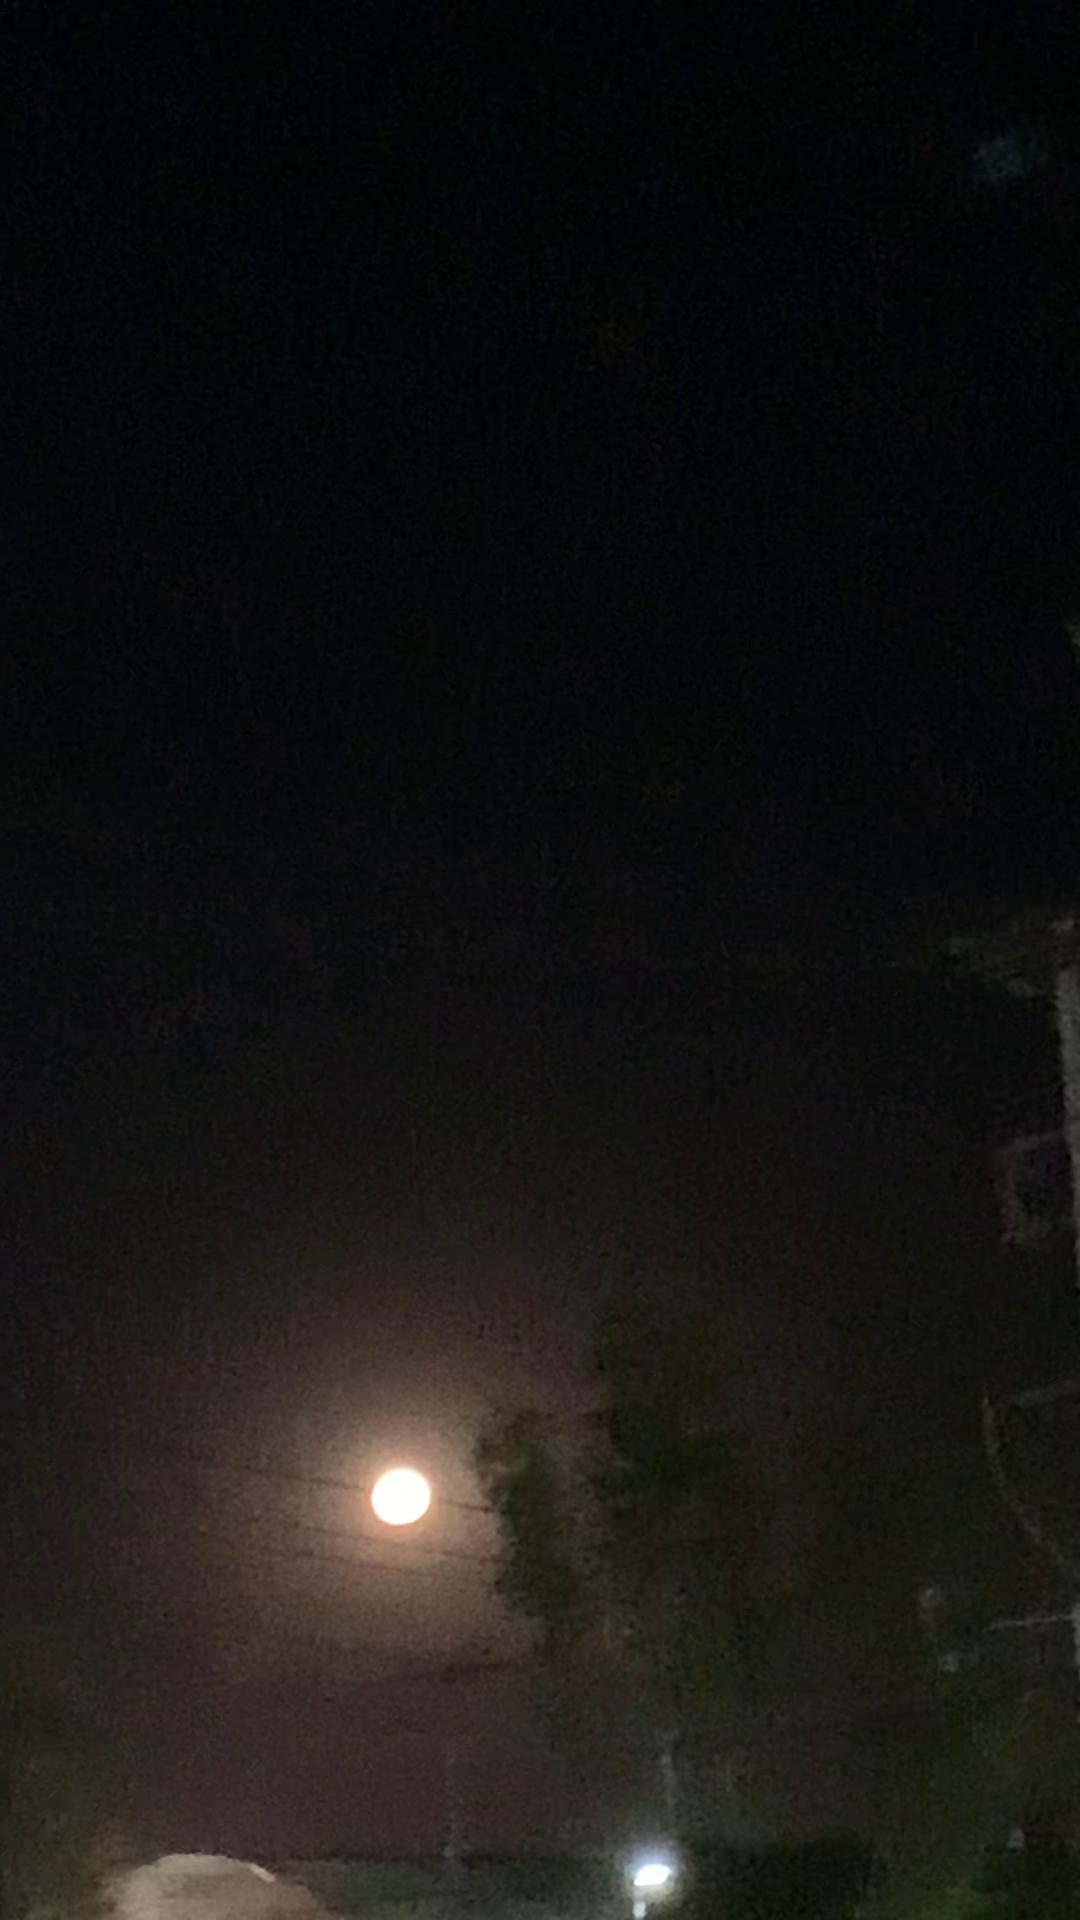moon: (342, 1462, 430, 1538)
